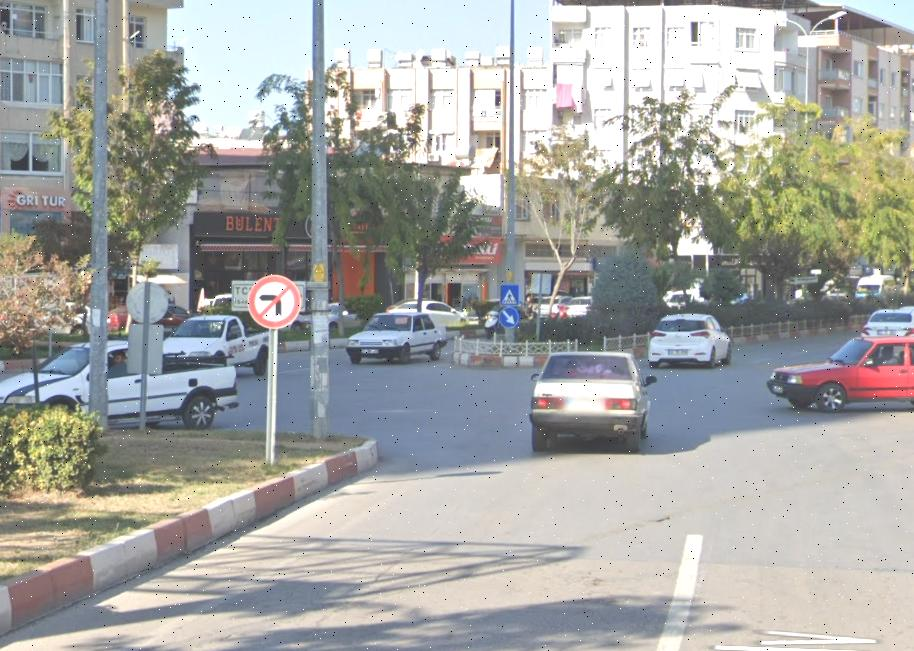leftturnsareforbidden: (252, 274, 302, 328)
